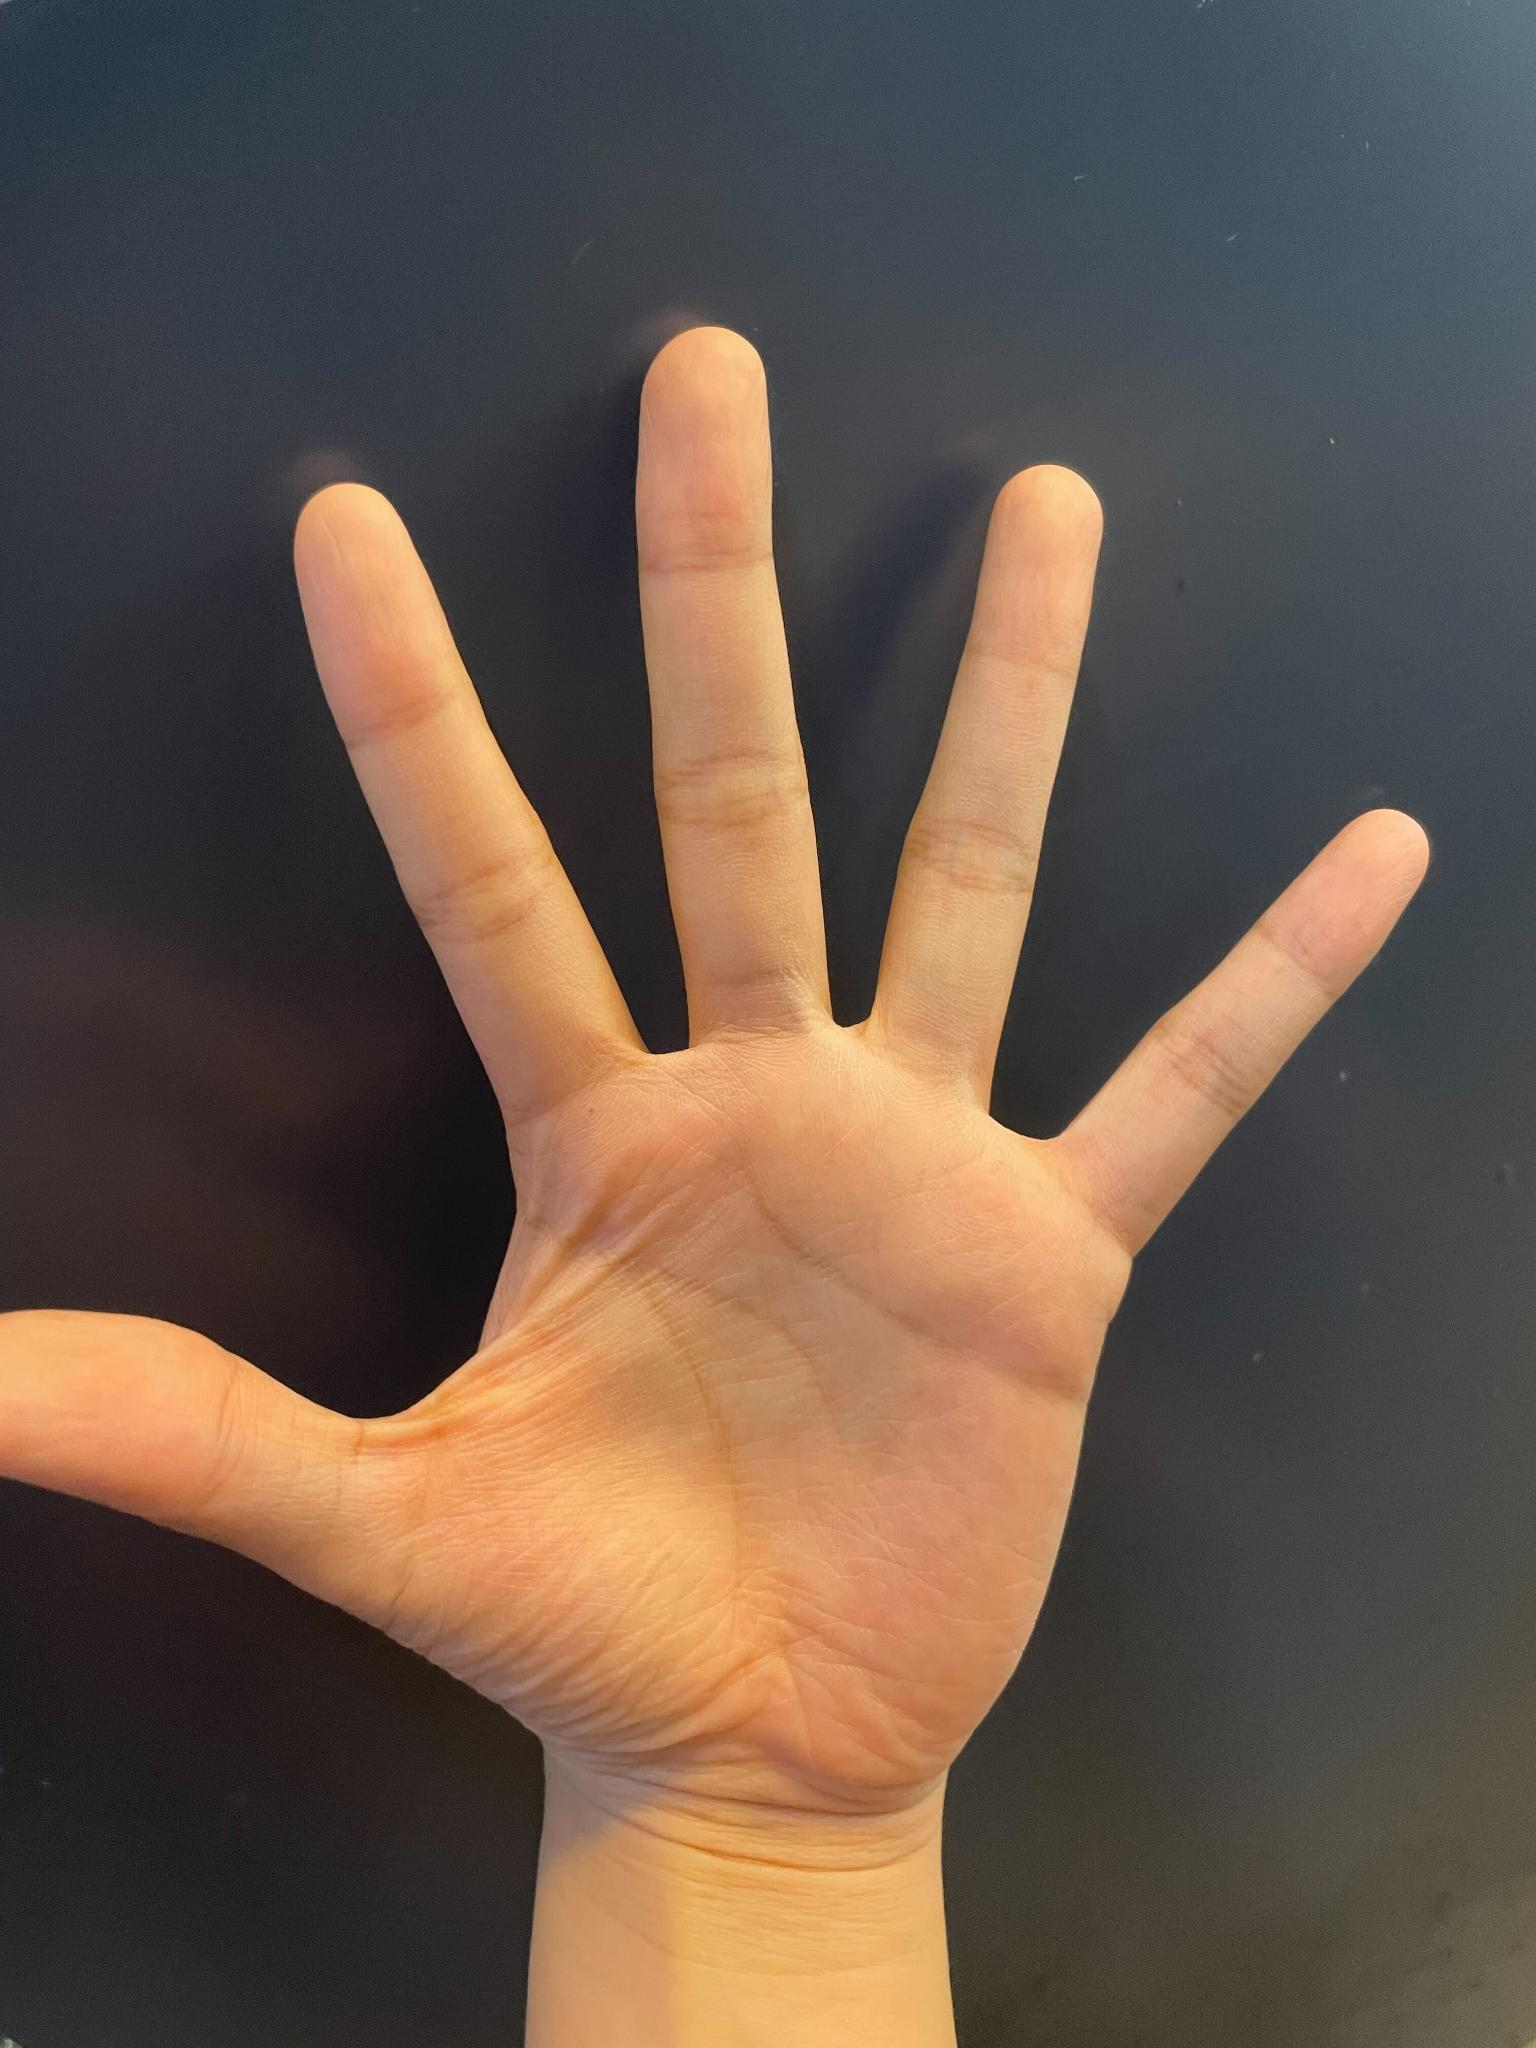open: (3, 334, 1492, 2008)
